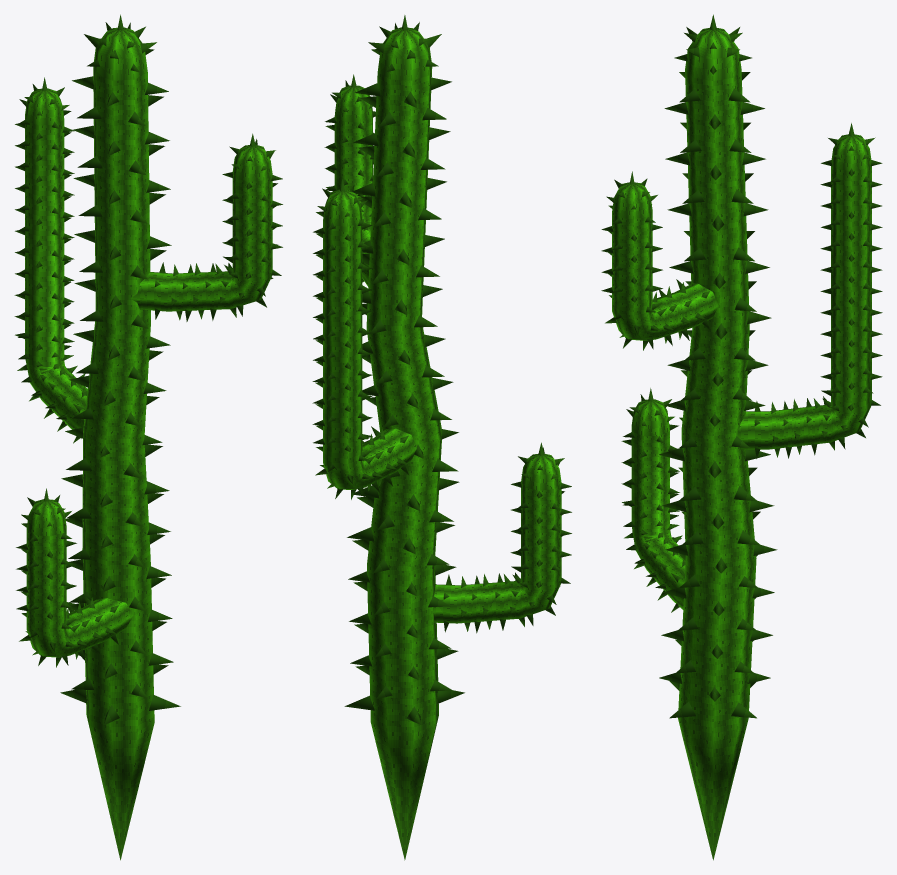
The model's file is Cac Large.fbx.
3 renders of one model, left to right at view 1: azimuth 30°, elevation 25°; view 2: azimuth 150°, elevation 25°; view 3: azimuth 270°, elevation 25°, orthographic.
Visible parts, largest first — view 1: Cac Tall; view 2: Cac Tall; view 3: Cac Tall.
Boxes of the visible parts, box(x1,y1,x2,y2) form: Cac Tall: box(14, 14, 282, 860); Cac Tall: box(312, 15, 571, 860); Cac Tall: box(601, 14, 882, 860).
Size of the model in its own units: 1534 by 4973 by 1501.
